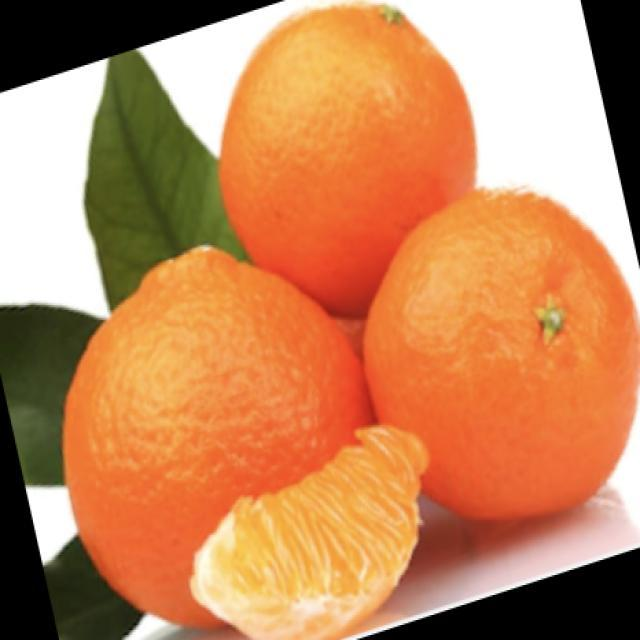matang: (64, 249, 377, 626), (364, 189, 639, 517), (220, 5, 475, 316), (190, 427, 426, 639)
